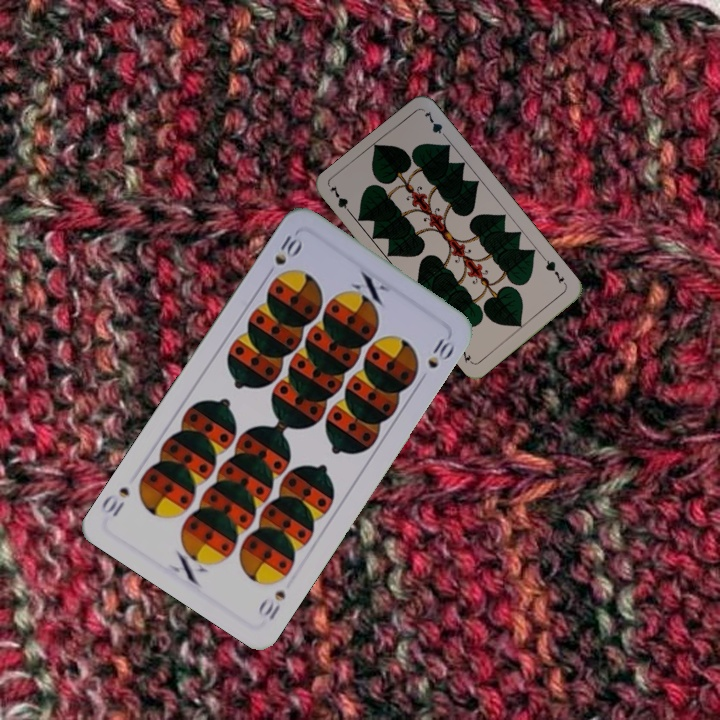G7: (326, 182, 356, 219), (540, 254, 569, 288)
S10: (261, 231, 306, 284), (254, 586, 288, 623)
